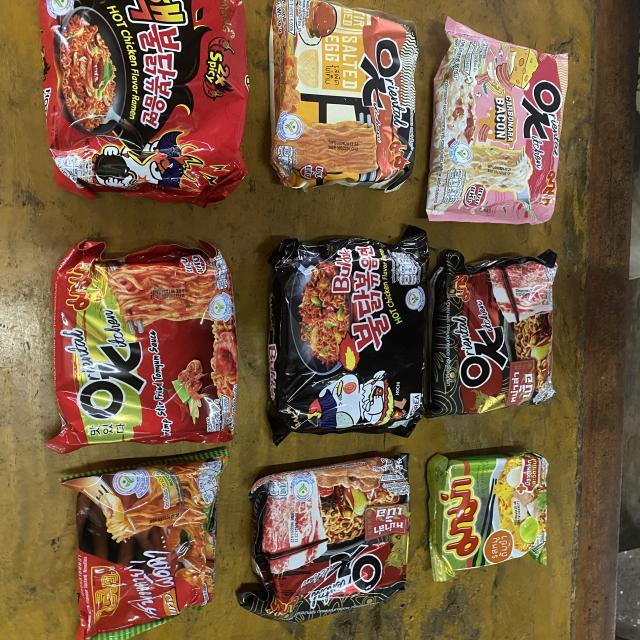plastik: (40, 0, 249, 206), (48, 241, 238, 454), (268, 226, 429, 442), (61, 449, 229, 640), (426, 18, 569, 224), (238, 454, 410, 621), (270, 0, 418, 191), (426, 250, 558, 416), (428, 450, 549, 581)
